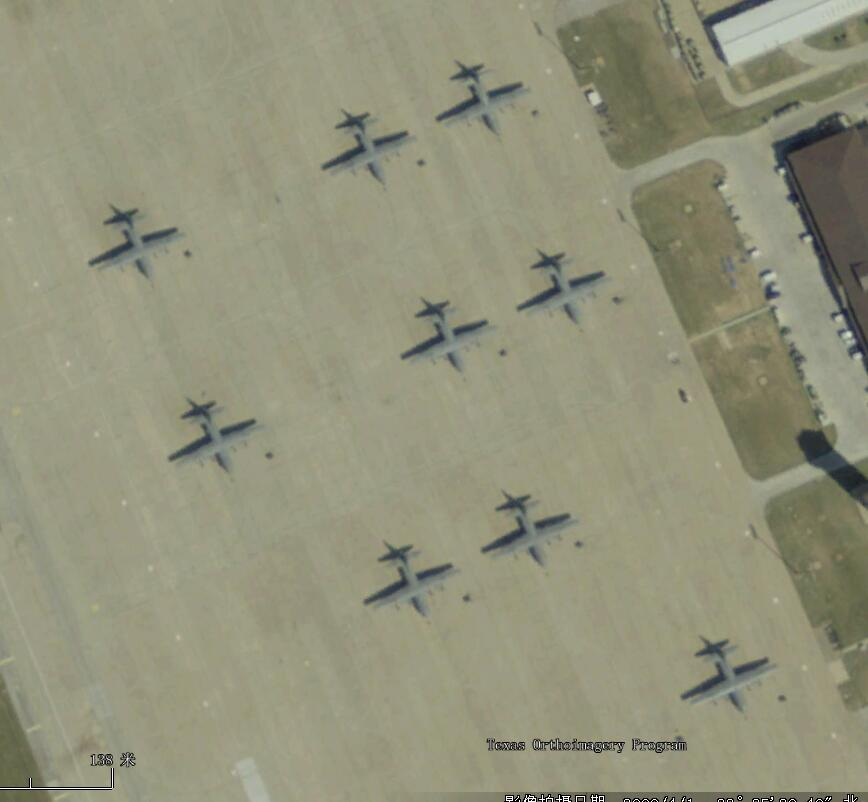A2: (315, 106, 419, 192), (397, 294, 499, 381), (479, 487, 583, 571), (163, 399, 270, 480), (432, 56, 536, 139), (360, 540, 464, 623), (86, 204, 189, 287), (679, 634, 780, 717), (511, 245, 613, 326)
